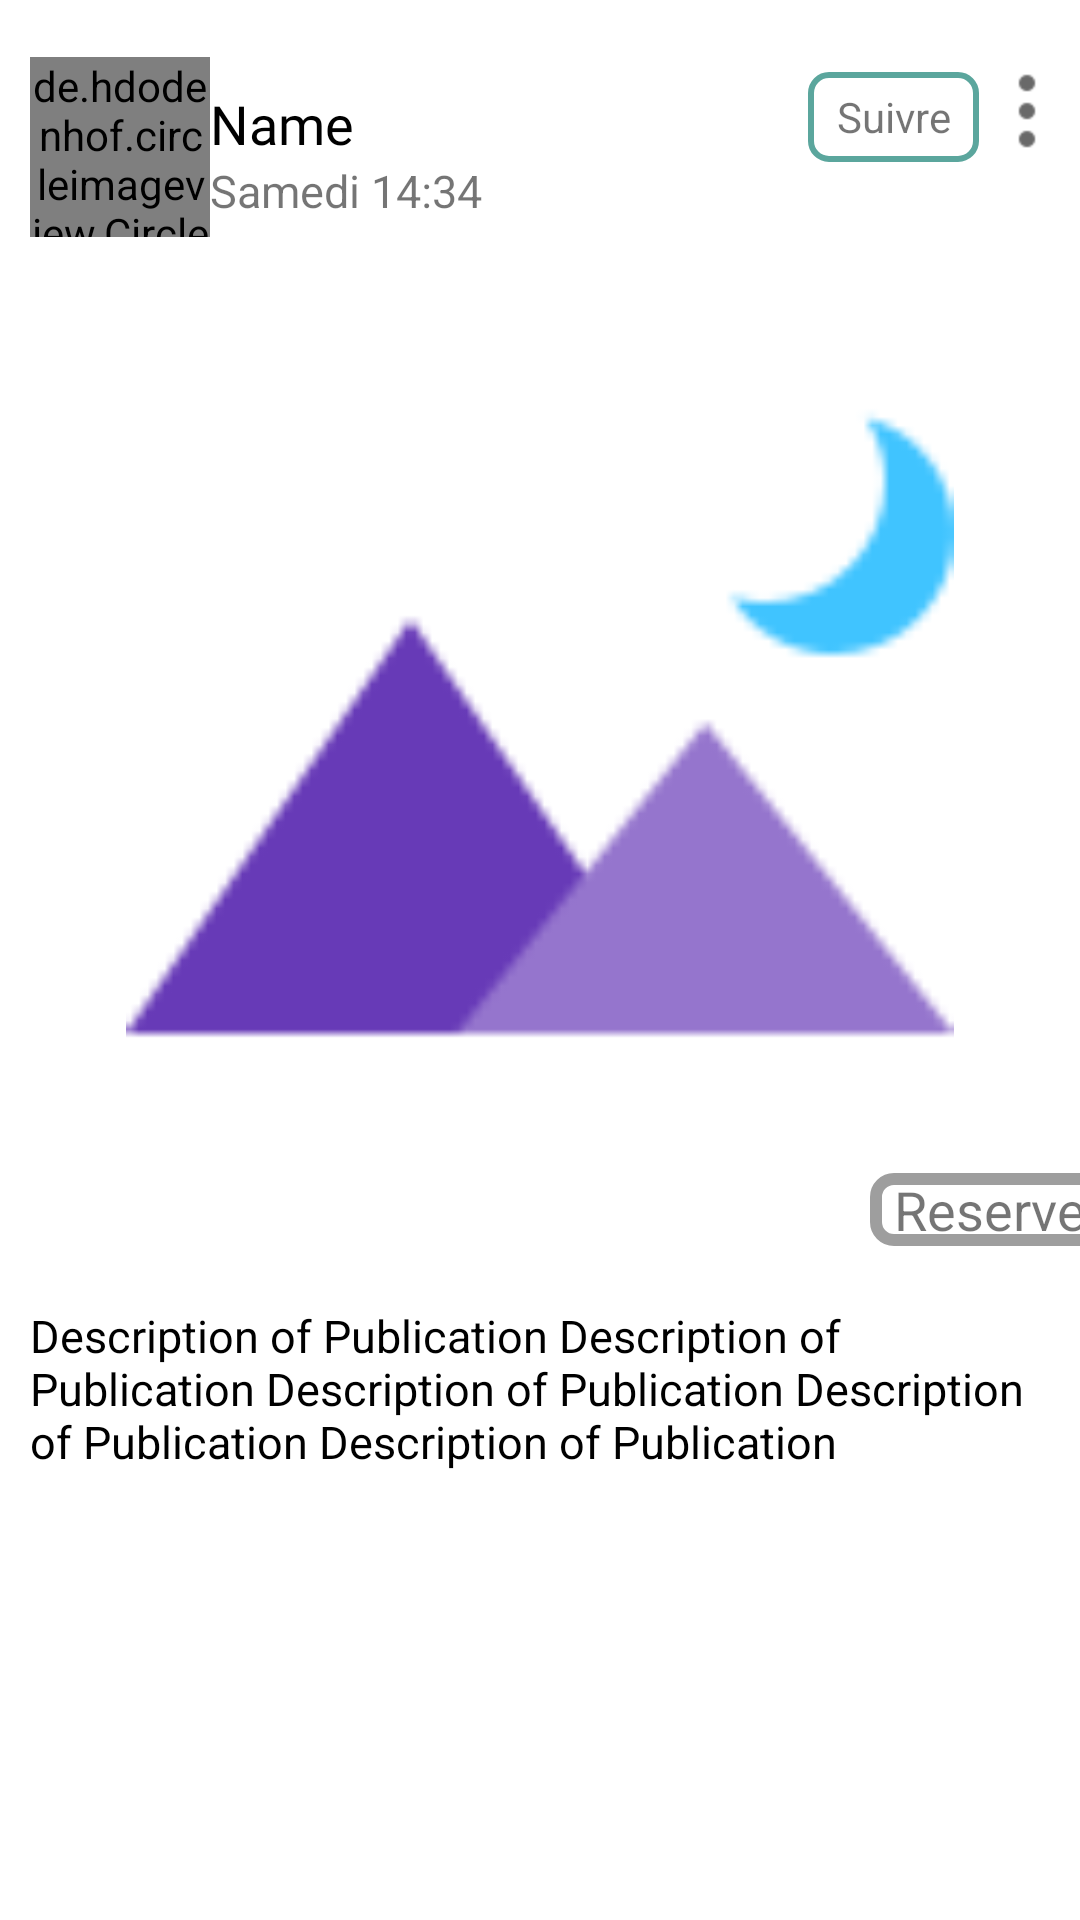

Point at icon controls on the screen. Image size 1080px x 1920px, points as point (x, y).
vertical: point (1027, 111)
